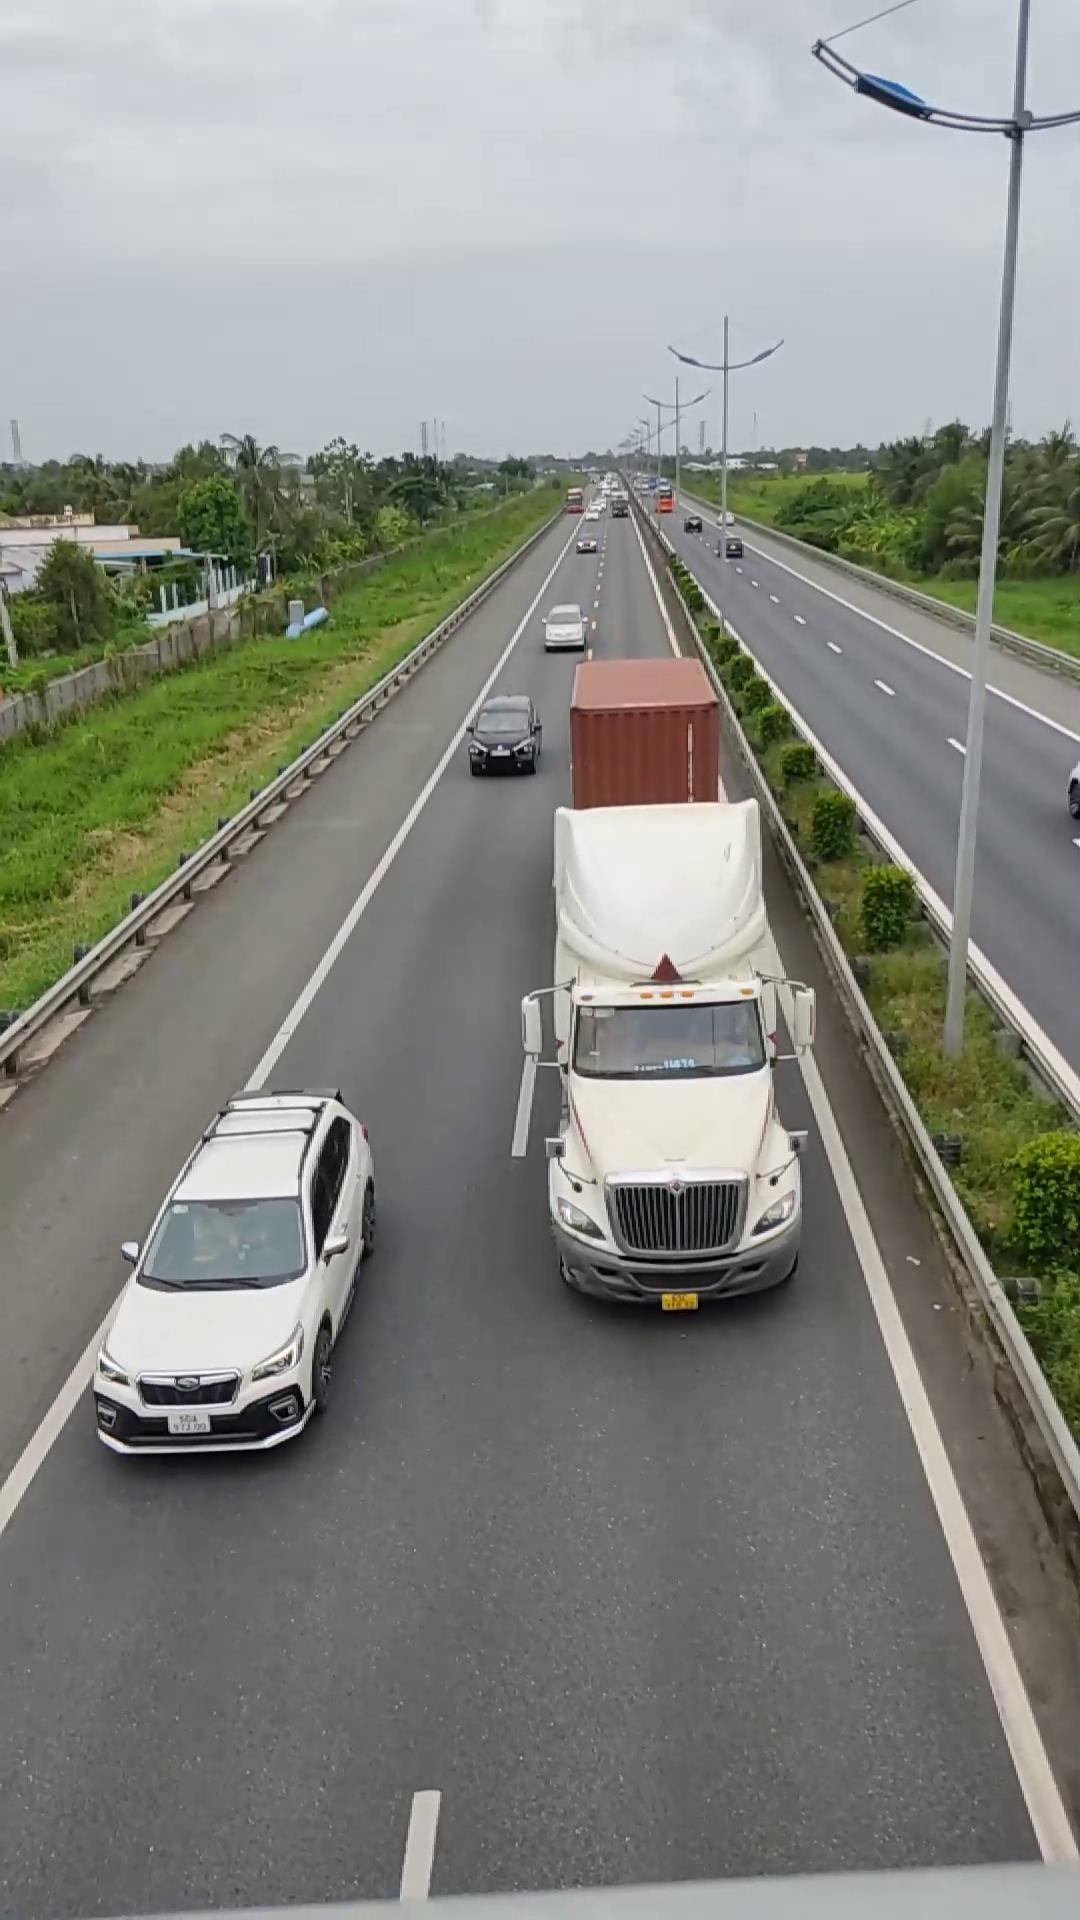car: (86, 1089, 378, 1453), (465, 694, 545, 773)
container: (530, 645, 816, 1307)
